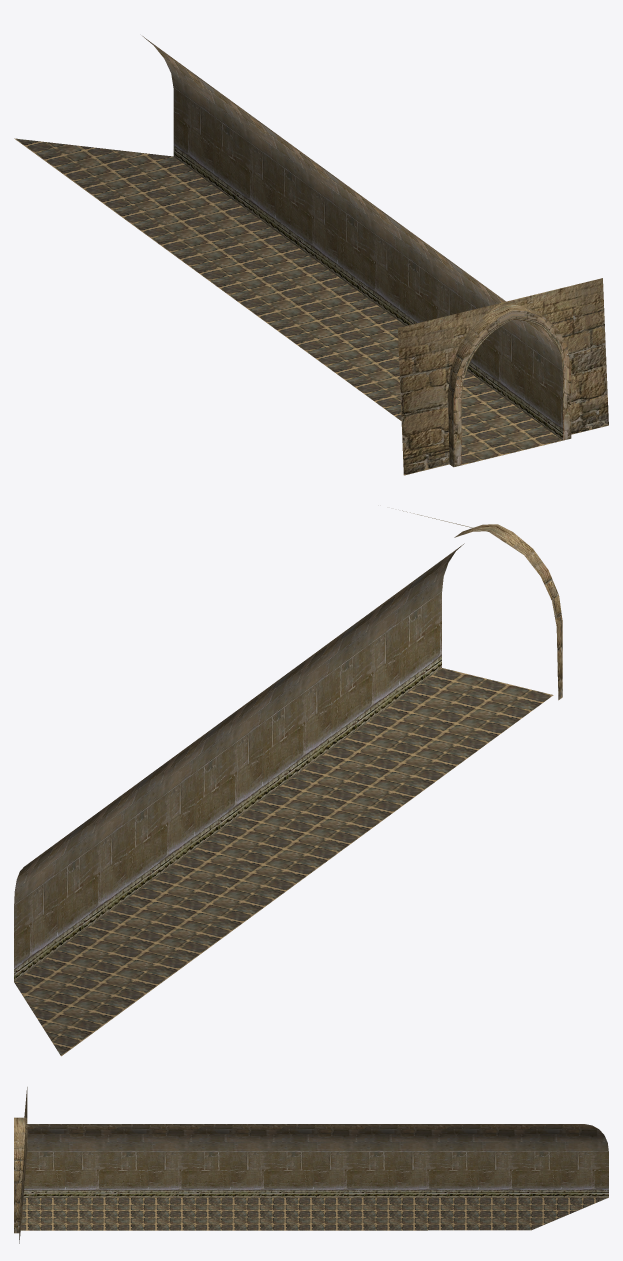
File: M7Z1_Tunnel1_A.glb
3 views of the same model, one above another, from view 1: azimuth 30°, elevation 25°; view 2: azimuth 150°, elevation 25°; view 3: azimuth 270°, elevation 25° (orthographic). The views are drawn at different scales.
Parts seen in each view (by area): view 1: M7Z1_TUNNEL1_A; view 2: M7Z1_TUNNEL1_A; view 3: M7Z1_TUNNEL1_A.
Part boxes in pixels (<box>): M7Z1_TUNNEL1_A: <box>14,36,608,475</box>; M7Z1_TUNNEL1_A: <box>14,510,562,1056</box>; M7Z1_TUNNEL1_A: <box>14,1087,608,1243</box>.
Bounding box in the file's own units: 6 × 4 × 22.64.
Materials: 4 (4 with a texture image).
